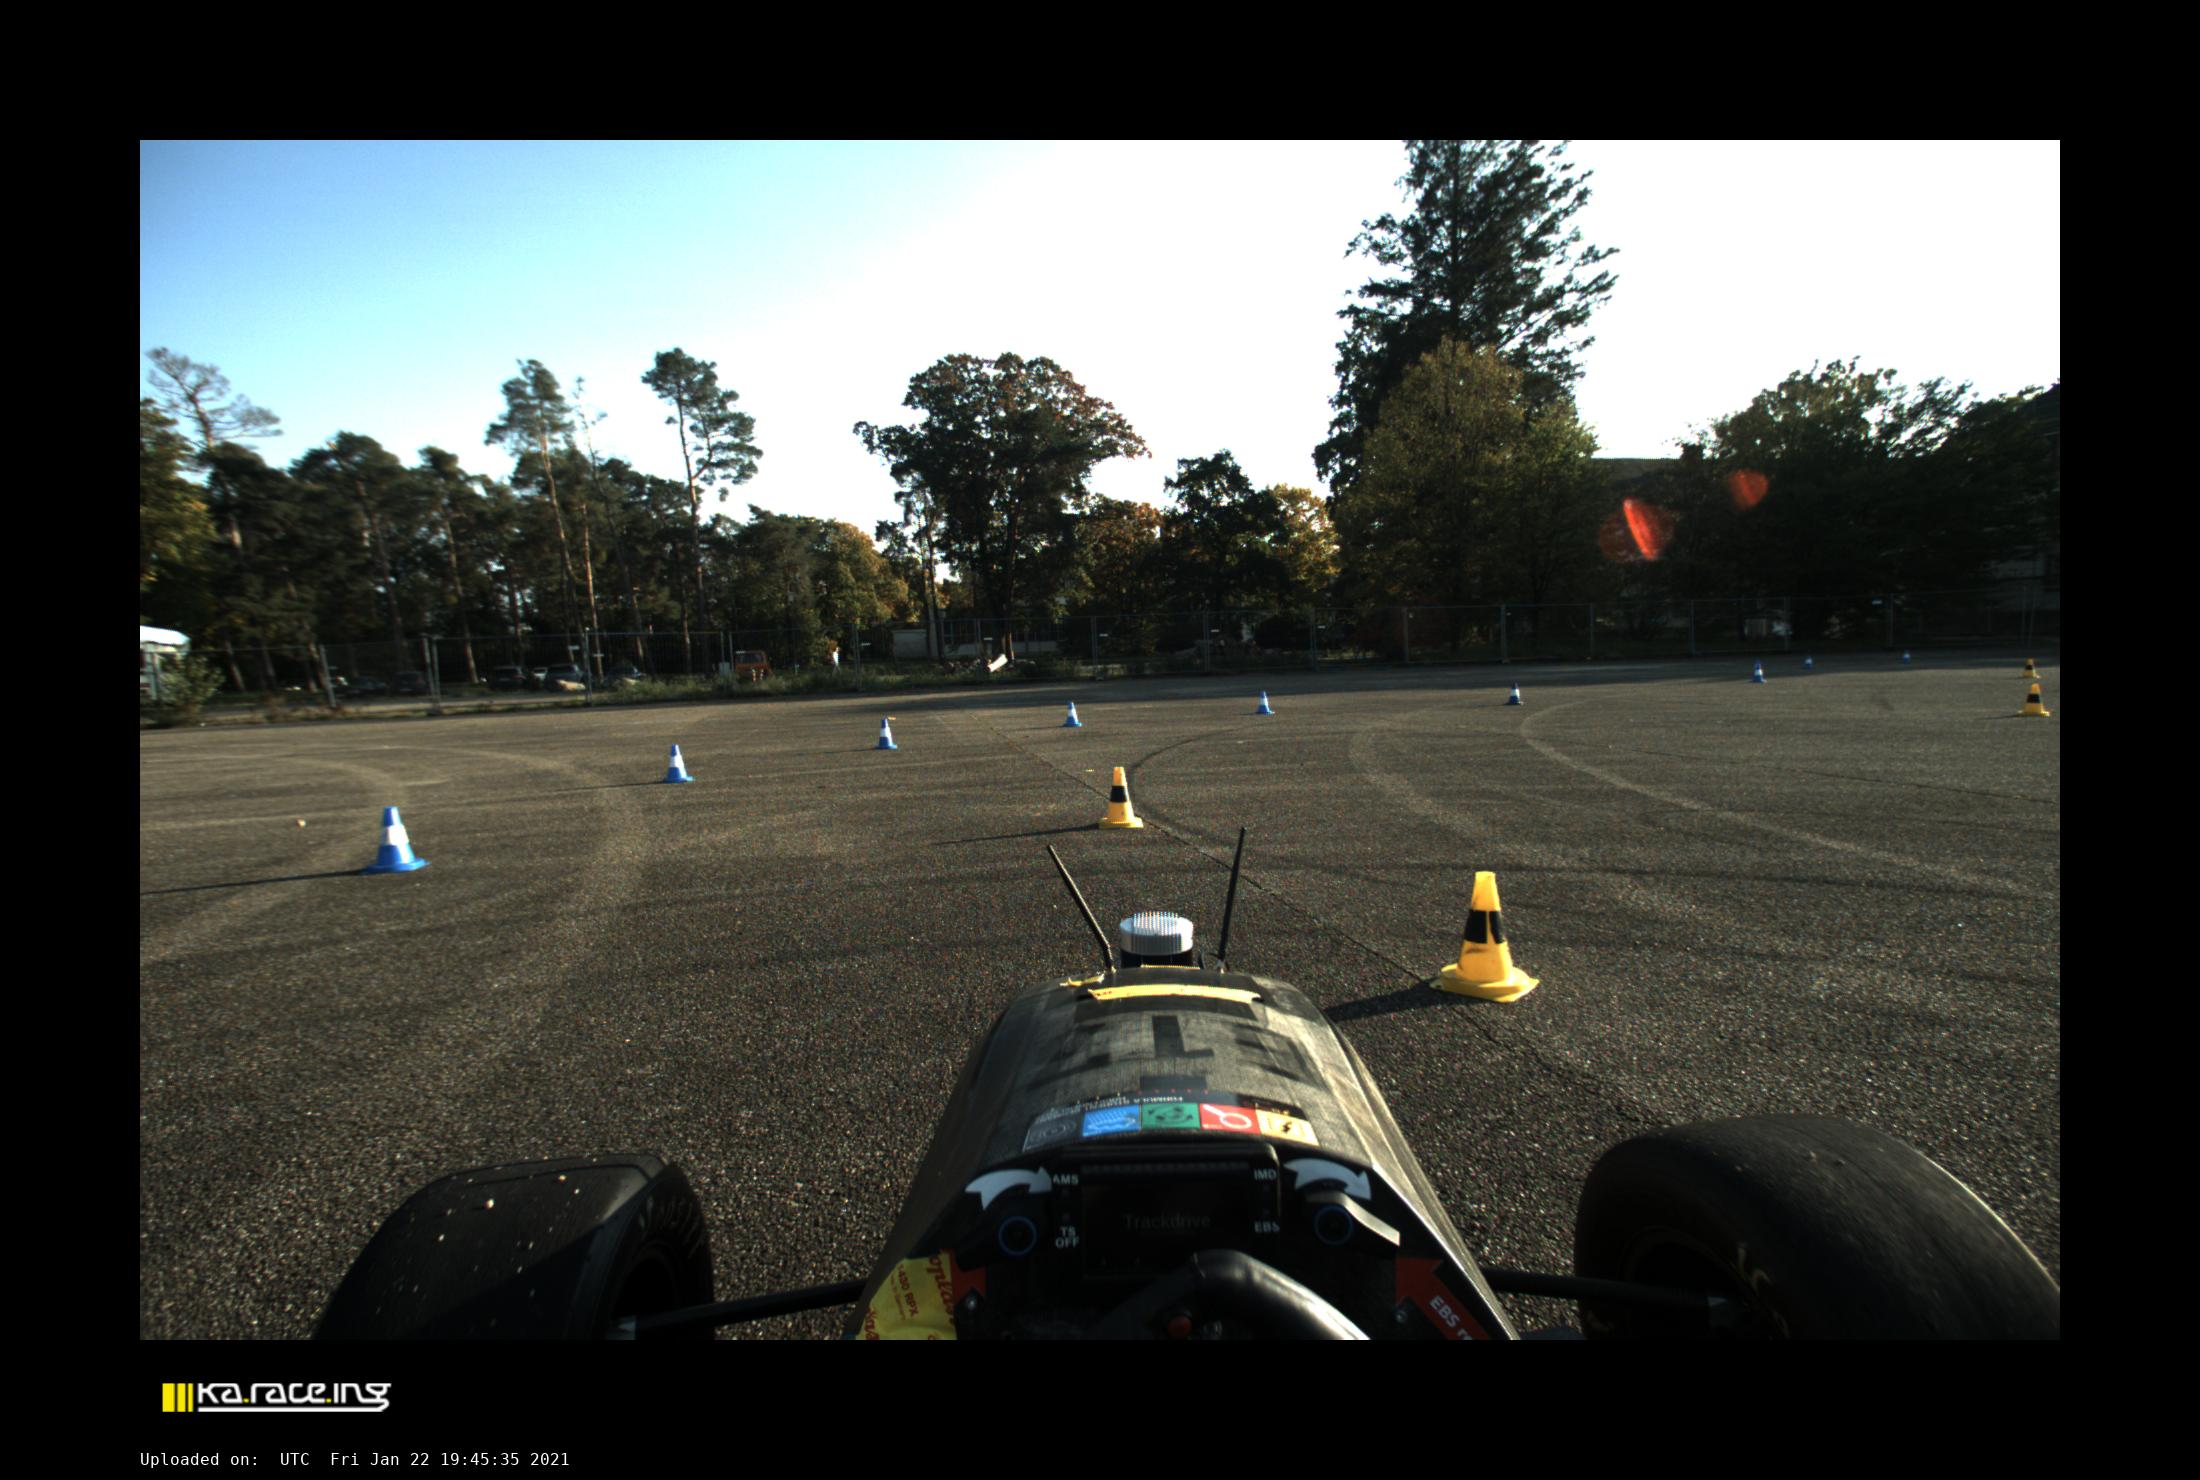blue_cone: (362, 804, 433, 874), (659, 743, 697, 786), (874, 715, 900, 752), (1060, 699, 1085, 728), (1254, 689, 1278, 715), (1501, 681, 1526, 707), (1746, 657, 1767, 685), (1802, 652, 1817, 671), (1899, 647, 1913, 664)
yellow_cone: (1429, 870, 1541, 1004), (1097, 765, 1146, 831), (2017, 681, 2051, 719), (2022, 657, 2043, 681)
